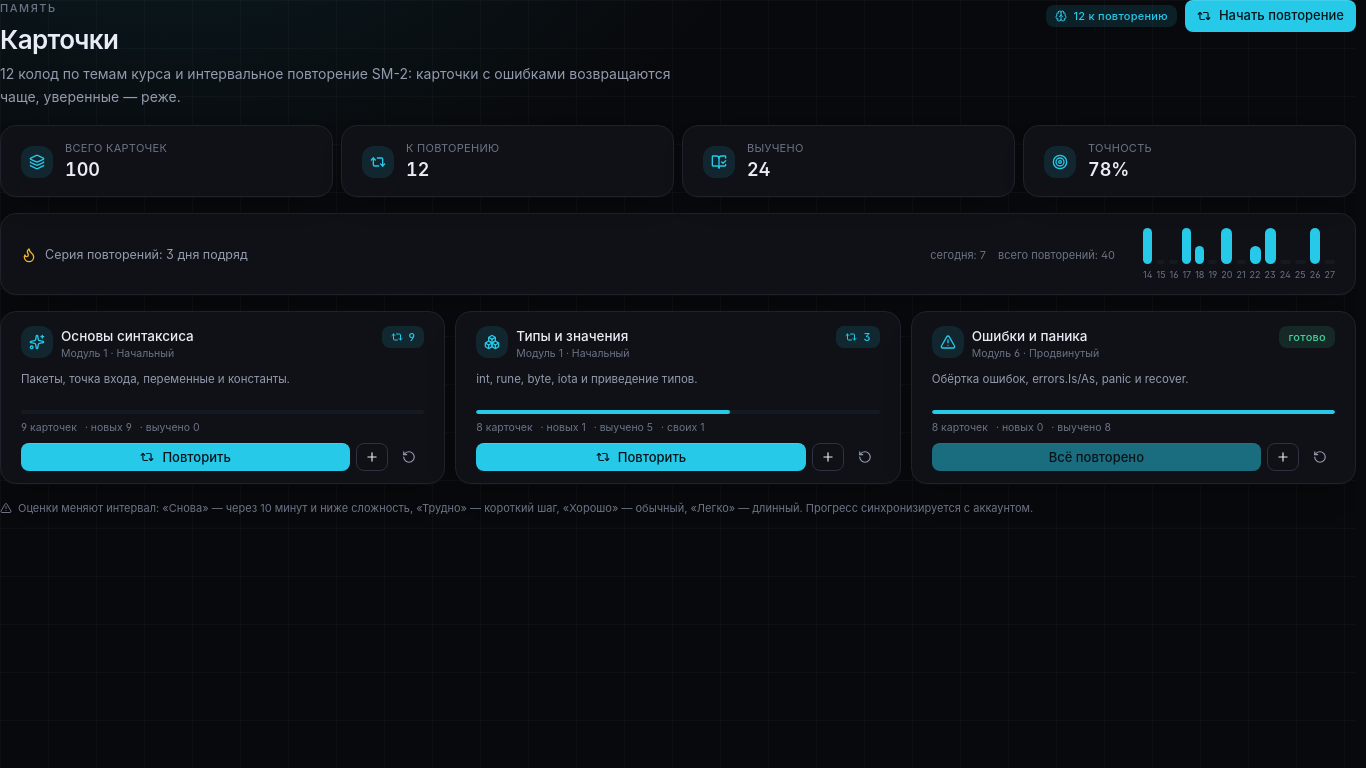
Test: FlashcardsPage › возвращает карточку в конец сессии при оценке «Снова»
The width and height of the screenshot is (1366, 768).
Click the button "Начать повторение": (1270, 16) [1185,0,1356,32]
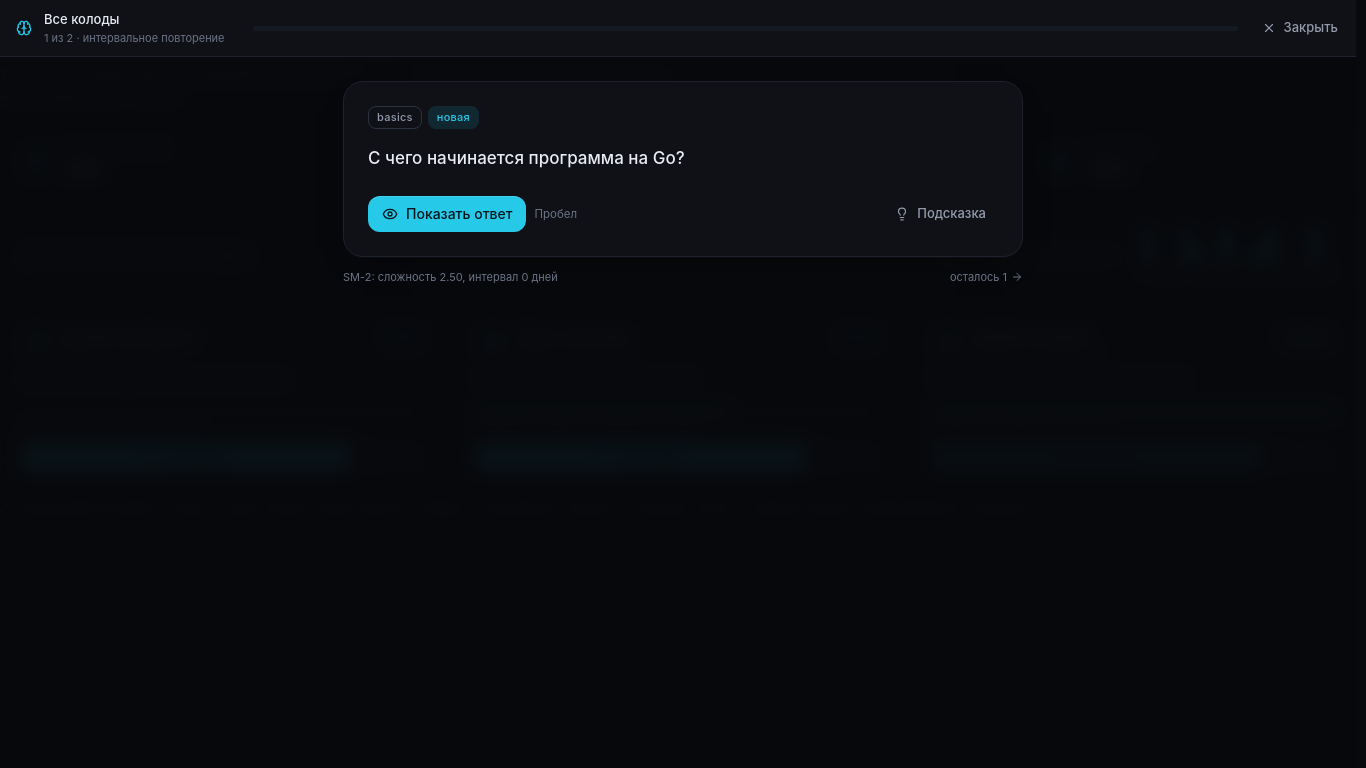
Expected: the text "С чего начинается программа на Go?" is shown, [368,148,685,168]
Click the button "Показать ответ": (447, 214) [368,196,526,232]
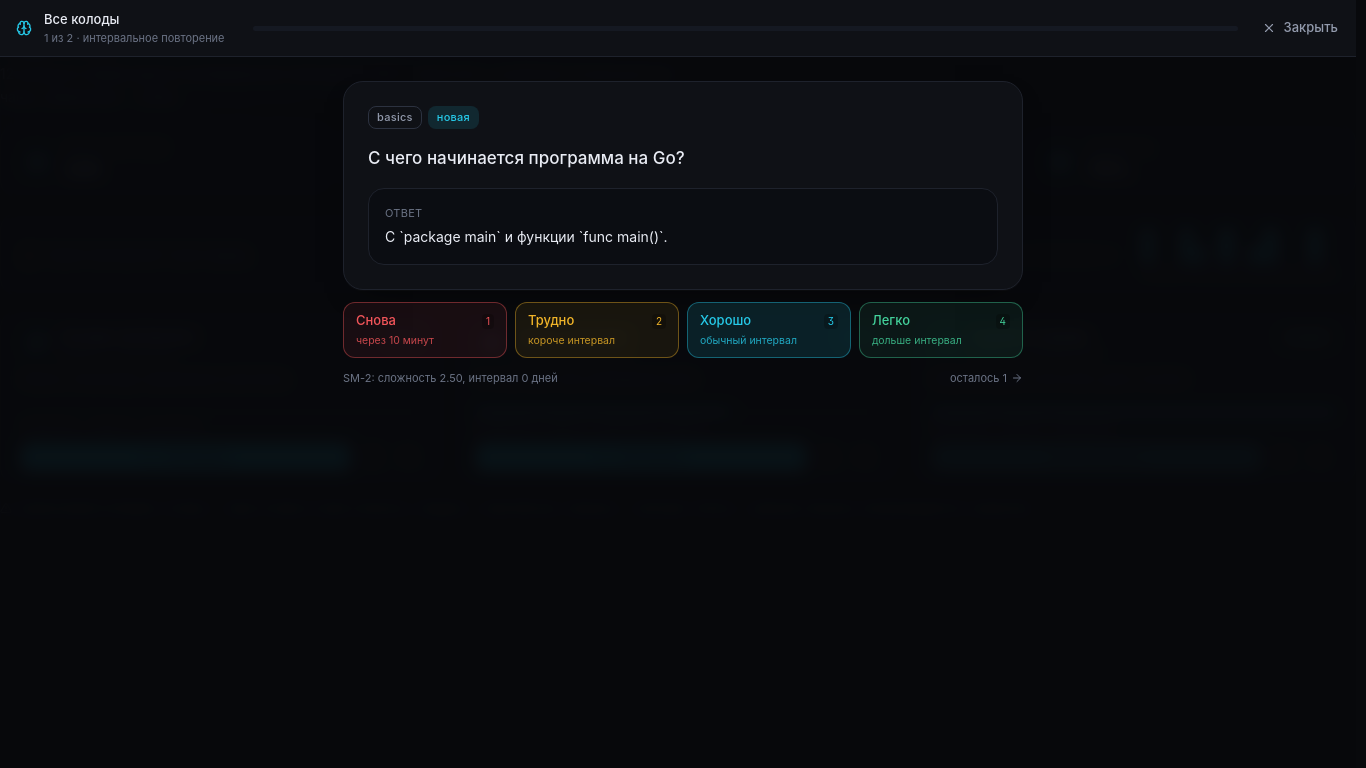
Click the button "Снова 1 через 10 минут": (425, 330) [343,302,507,358]
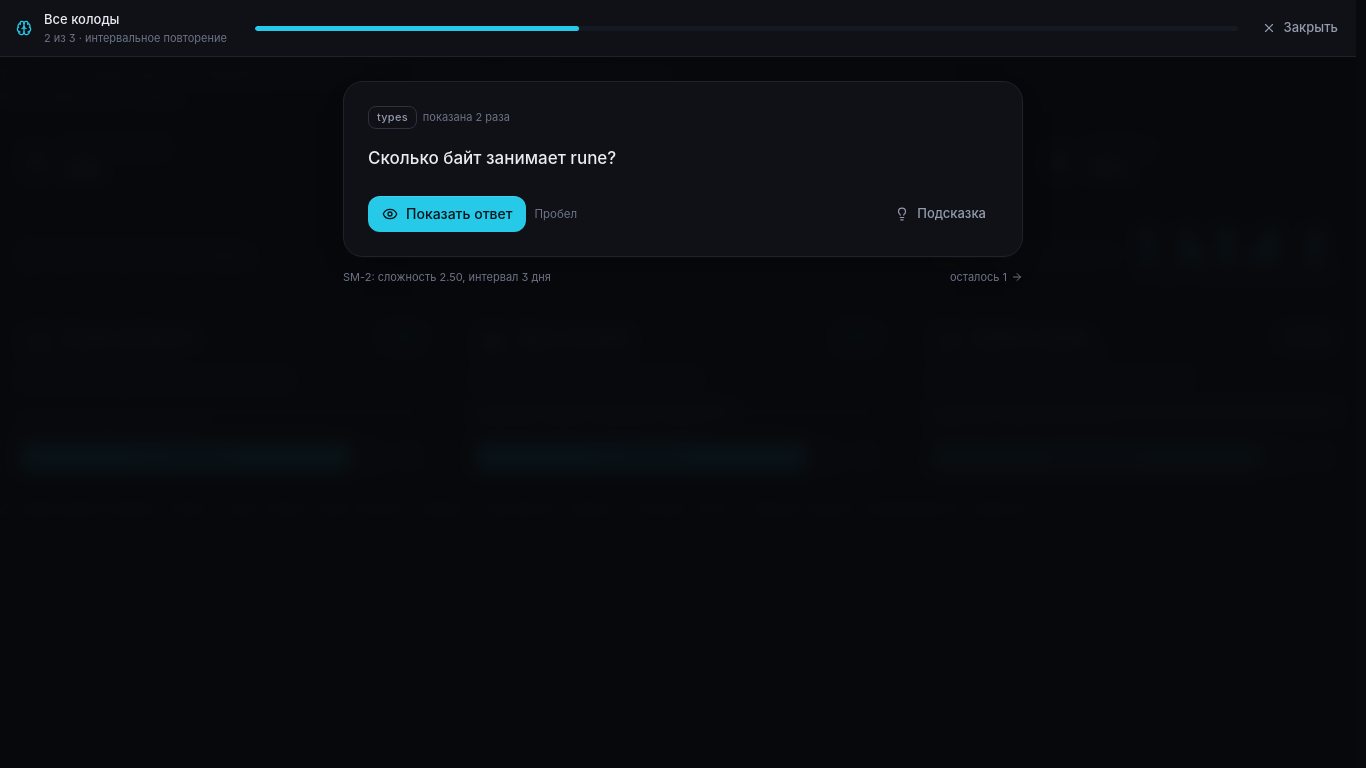
Expected: the text "Сколько байт занимает rune?" is shown, [368,148,616,168]
Click the button "Показать ответ": (447, 214) [368,196,526,232]
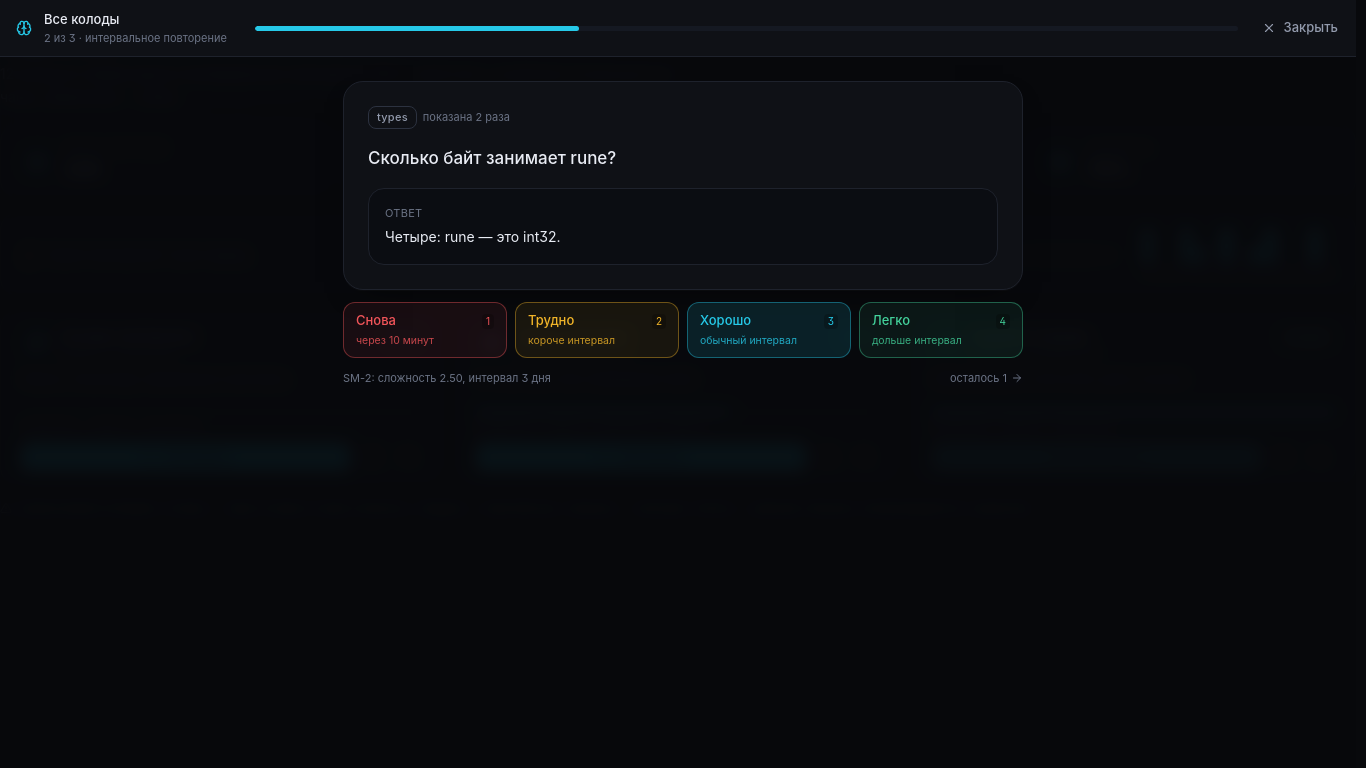
Click the button "Хорошо 3 обычный интервал": (769, 330) [687,302,851,358]
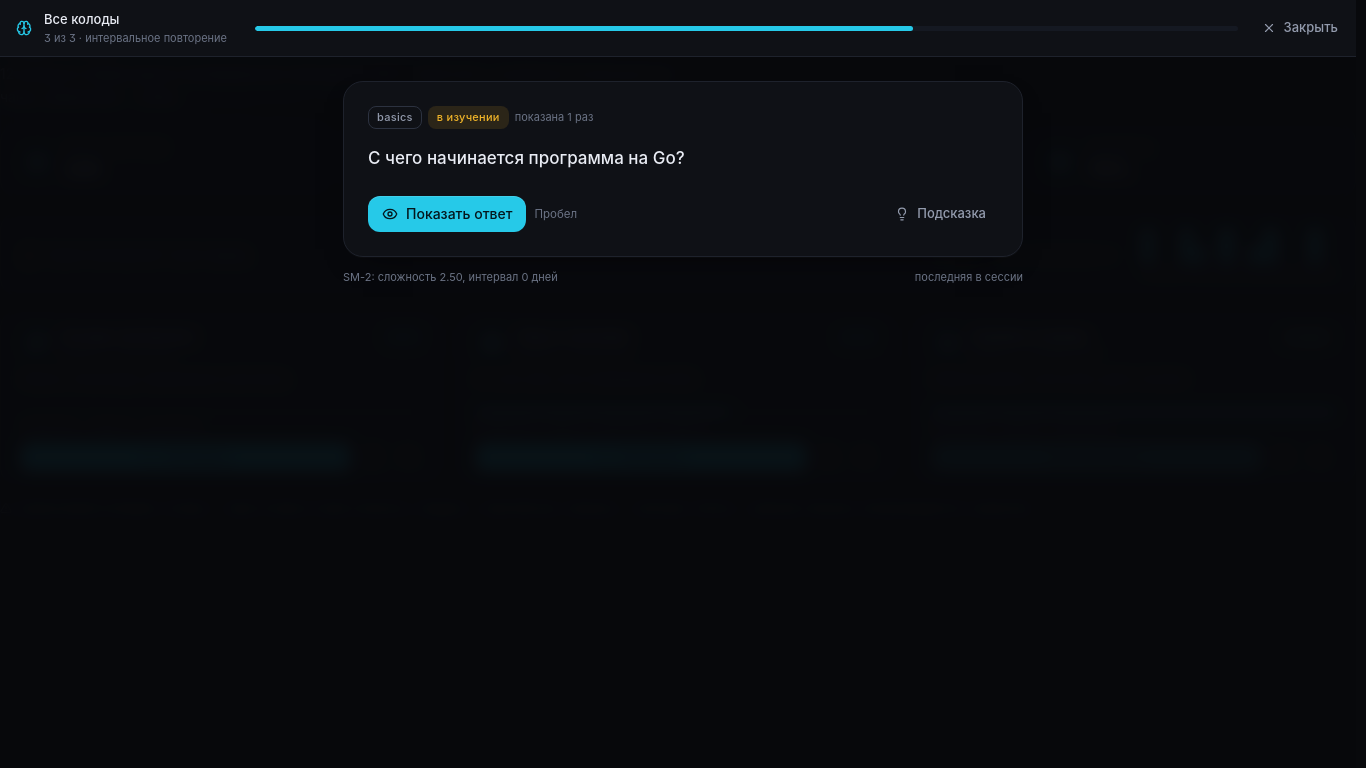
Expected: the text "С чего начинается программа на Go?" is shown, [368,148,685,168]
